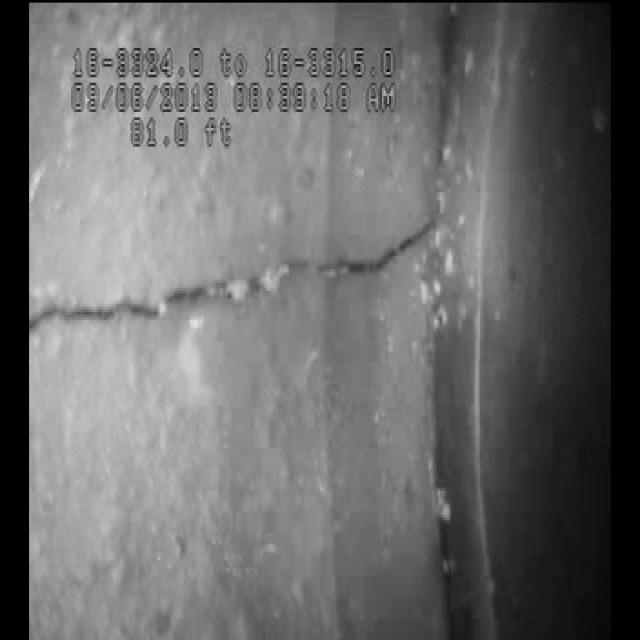Crack: (28, 207, 448, 355)
